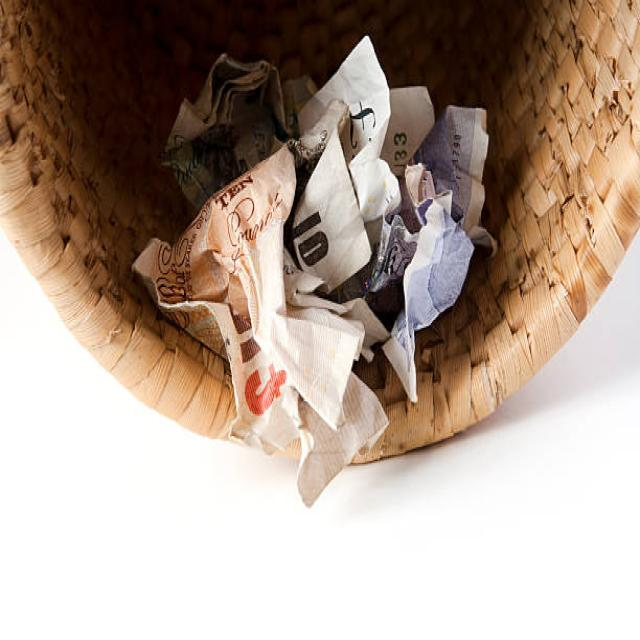paper: (169, 85, 450, 397)
